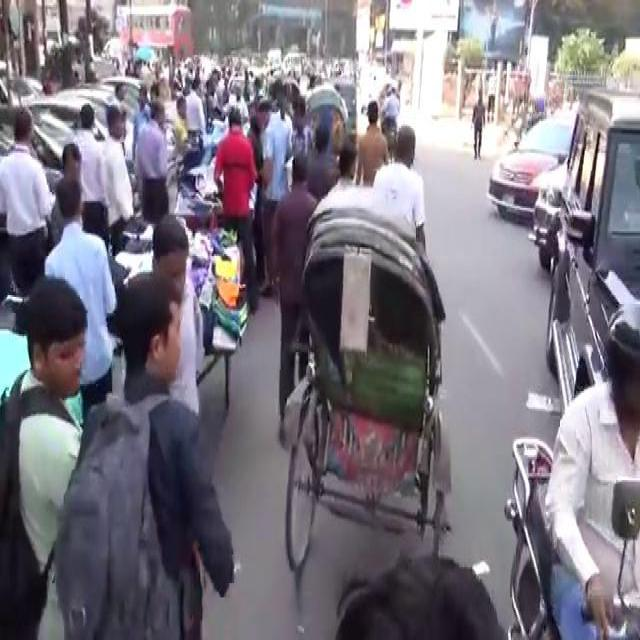car: (487, 110, 575, 220), (28, 94, 132, 156), (84, 72, 150, 95)
minivan: (542, 82, 636, 426)
motorbike: (504, 297, 636, 631)
rickshaw: (280, 184, 450, 588), (304, 83, 346, 137)
scooter: (379, 79, 396, 149)
